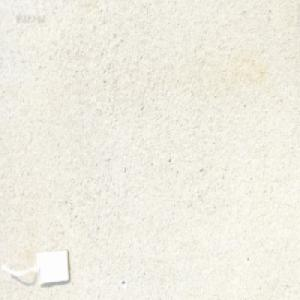LuggageTag: (10, 244, 70, 286)
